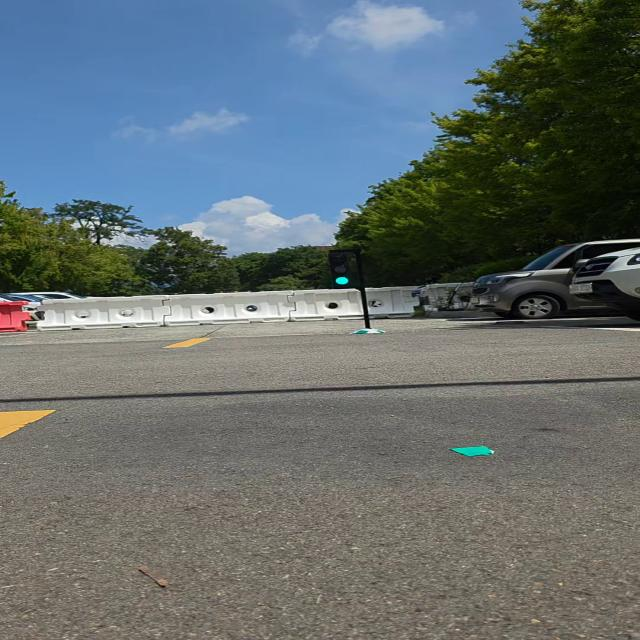green: (323, 251, 358, 287)
